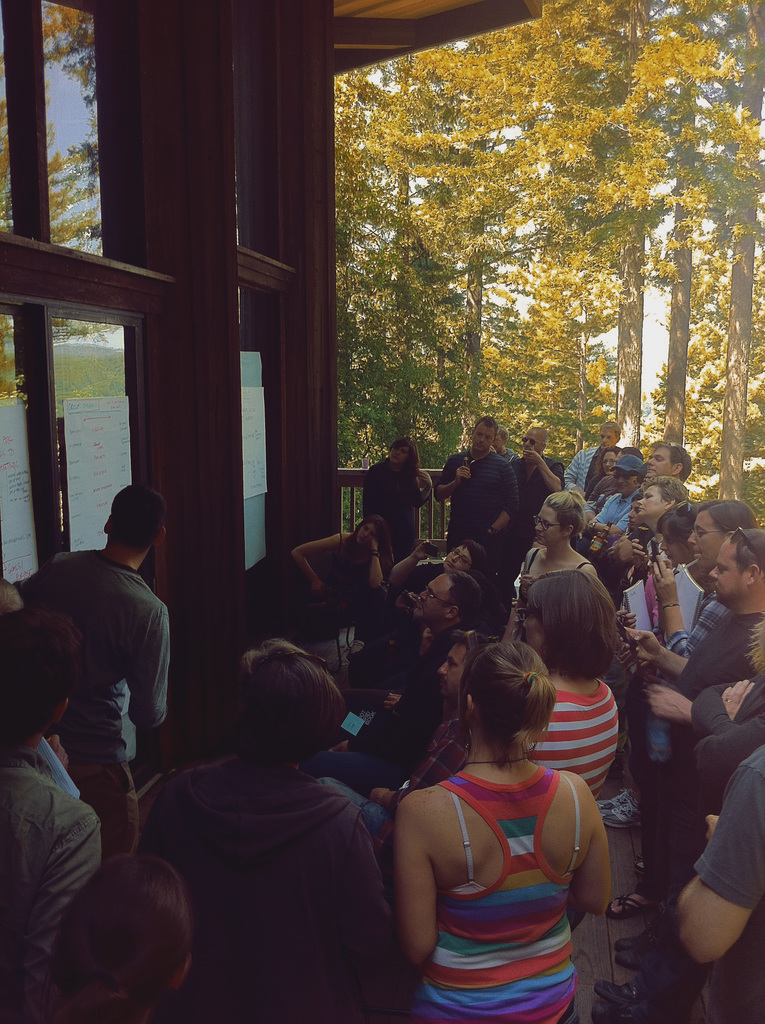Human-face: (354, 417, 746, 701)
